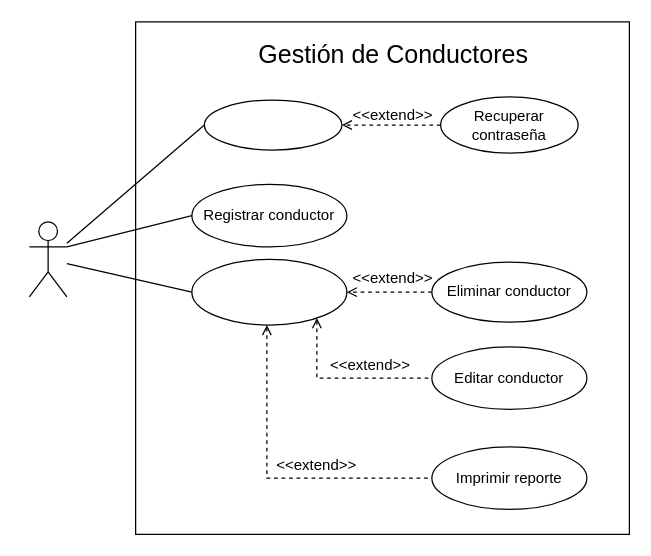
Some shapes in this 651 by 556 pixel diagram are drawn without their labels. Here are the shapes that lost their labels. From the top down, the centre of each, then its label:
At (x=272, y=124): "Iniciar sesión".
At (x=47, y=259): "Gerente".
At (x=269, y=291): "Buscar conductor".
